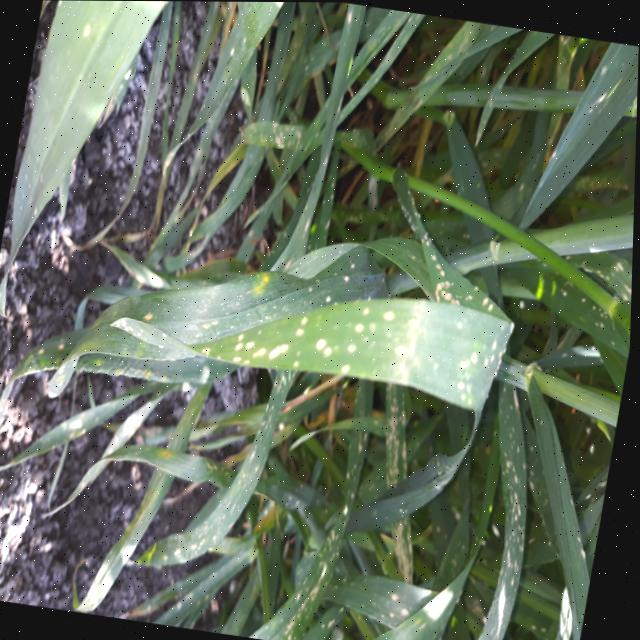powder_mildew: (183, 250, 518, 411), (6, 0, 157, 258), (350, 393, 487, 640), (267, 383, 384, 640), (456, 364, 557, 640), (177, 339, 303, 557), (359, 164, 519, 332), (11, 262, 184, 415), (280, 2, 372, 289), (174, 1, 275, 187), (378, 11, 483, 159), (534, 230, 635, 363), (468, 23, 547, 153), (477, 123, 550, 215), (535, 33, 585, 147), (239, 98, 310, 160)
